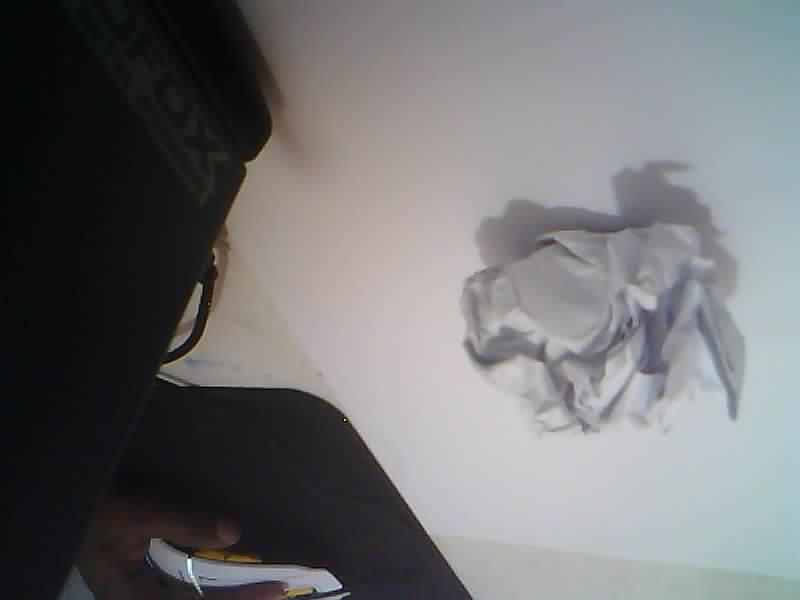biodegradable: (461, 223, 743, 435)
